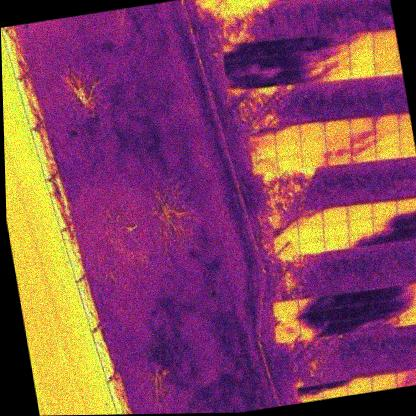Hotspot: (373, 58, 400, 77), (251, 156, 279, 174), (249, 143, 277, 160)
Normal: (343, 375, 373, 396), (370, 372, 399, 392), (273, 125, 301, 145), (324, 132, 352, 151), (372, 43, 400, 62), (296, 222, 325, 240), (320, 205, 349, 223), (300, 151, 329, 169), (322, 118, 351, 136), (373, 114, 399, 134), (323, 232, 350, 251), (348, 45, 375, 64), (321, 218, 349, 236), (299, 137, 328, 154), (276, 154, 303, 172), (298, 122, 325, 140), (298, 237, 326, 254), (346, 217, 374, 234), (345, 203, 373, 220), (374, 144, 402, 161), (373, 130, 401, 147), (348, 116, 376, 133), (350, 59, 375, 78), (371, 199, 397, 217), (372, 29, 398, 47), (272, 299, 299, 316), (275, 140, 302, 157), (395, 197, 416, 215), (223, 0, 251, 7), (250, 0, 277, 3)
Shadow: (274, 67, 305, 87), (248, 54, 276, 75), (273, 52, 302, 72), (270, 36, 299, 56), (247, 127, 275, 147), (324, 60, 352, 80), (224, 72, 252, 92), (223, 57, 251, 77), (319, 380, 348, 399), (295, 384, 324, 403), (302, 63, 328, 84), (326, 147, 353, 167), (246, 39, 273, 59), (295, 207, 323, 226), (323, 45, 351, 64), (347, 30, 375, 49), (321, 31, 349, 50), (371, 311, 399, 330), (371, 297, 398, 316), (297, 295, 324, 314), (349, 129, 376, 148), (250, 70, 277, 89), (299, 48, 326, 67), (221, 42, 248, 61), (274, 326, 301, 345), (323, 318, 352, 335), (347, 230, 374, 248), (271, 211, 298, 229), (297, 34, 324, 52), (321, 305, 349, 322), (273, 313, 301, 330), (271, 226, 299, 243), (321, 293, 350, 309), (372, 227, 399, 244), (350, 146, 377, 163), (299, 322, 326, 339), (346, 303, 374, 319), (346, 290, 374, 306), (273, 241, 301, 257), (372, 214, 398, 231), (298, 310, 324, 326), (371, 286, 397, 302), (394, 281, 416, 299), (348, 316, 374, 331), (395, 295, 416, 313), (395, 212, 416, 229), (395, 370, 416, 387), (396, 225, 416, 241), (396, 310, 416, 326), (198, 0, 226, 11), (273, 0, 299, 1)
